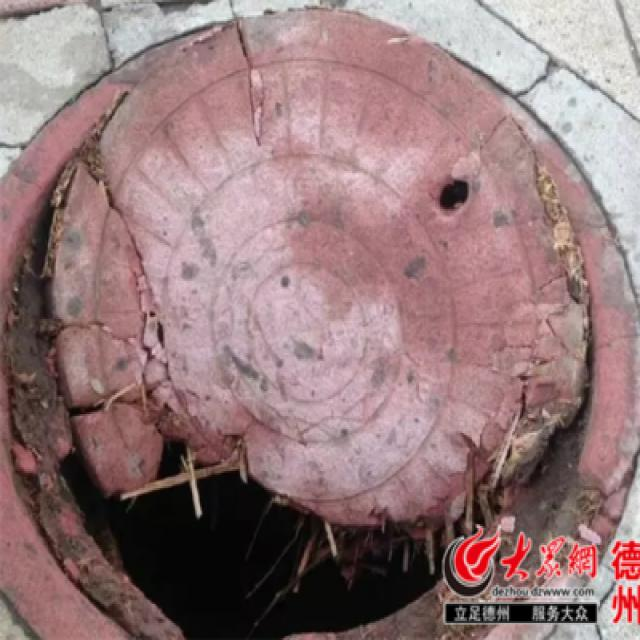manhole: (0, 28, 638, 634)
